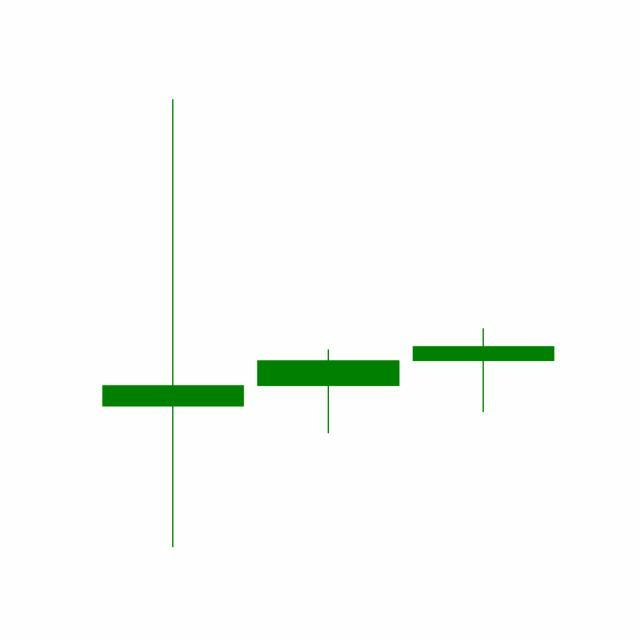Hanging Man: (406, 327, 562, 414)
